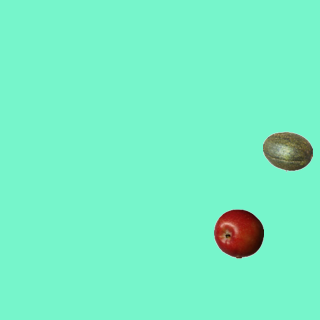Apple Braeburn: (213, 208, 263, 258)
Melon Piel de Sapo: (262, 126, 312, 176)
